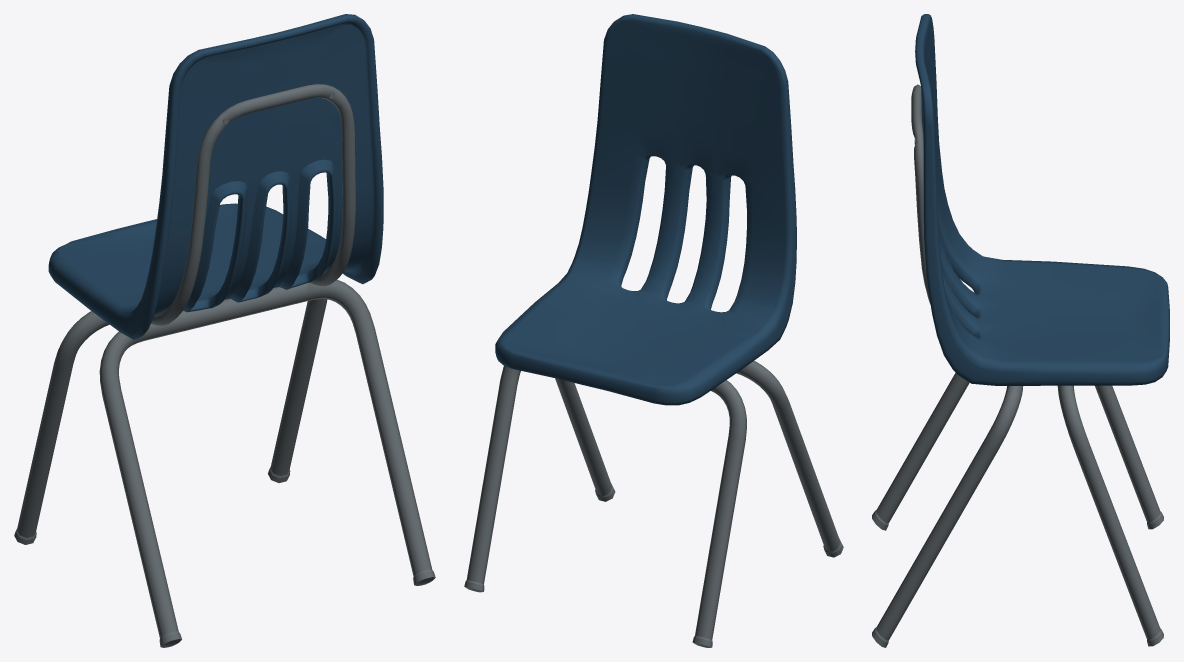
The model's file is school-chair.glb.
3 renders of one model, left to right at view 1: azimuth 30°, elevation 25°; view 2: azimuth 150°, elevation 25°; view 3: azimuth 270°, elevation 25°, orthographic. The views are drawn at different scales.
Parts seen in each view (by area): view 1: SchoolChair_01; view 2: SchoolChair_01; view 3: SchoolChair_01.
Part boxes in pixels (<box>): SchoolChair_01: <box>14,14,435,647</box>; SchoolChair_01: <box>464,14,843,647</box>; SchoolChair_01: <box>872,14,1169,647</box>.
Bounding box in the file's own units: 0.44 × 0.88 × 0.44.
